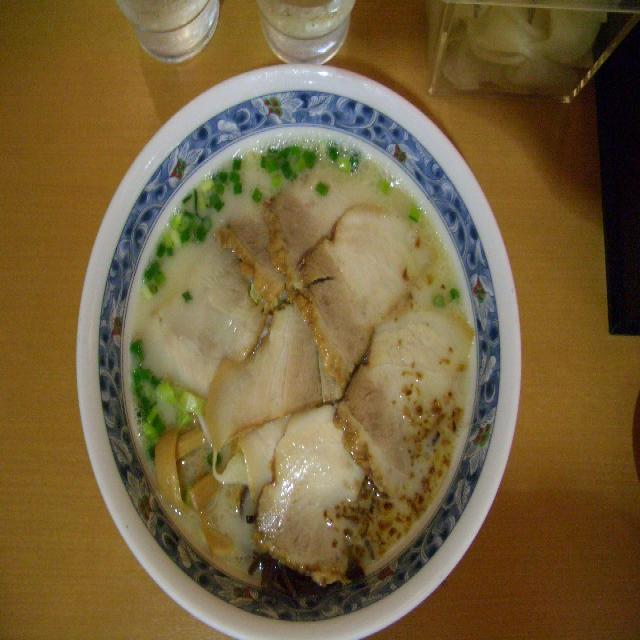面条主食: (112, 122, 470, 610)
